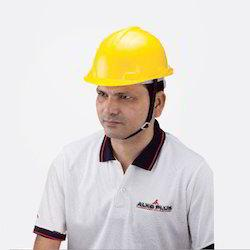helmet: (84, 26, 176, 89)
